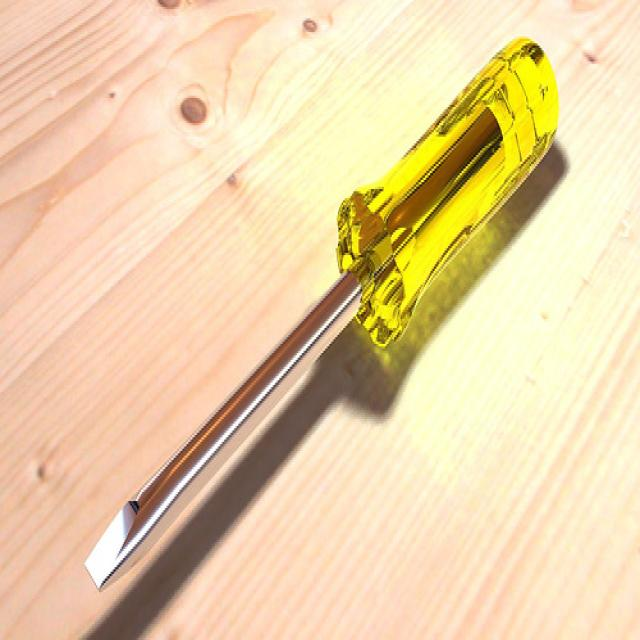screw driver: (37, 30, 640, 614)
